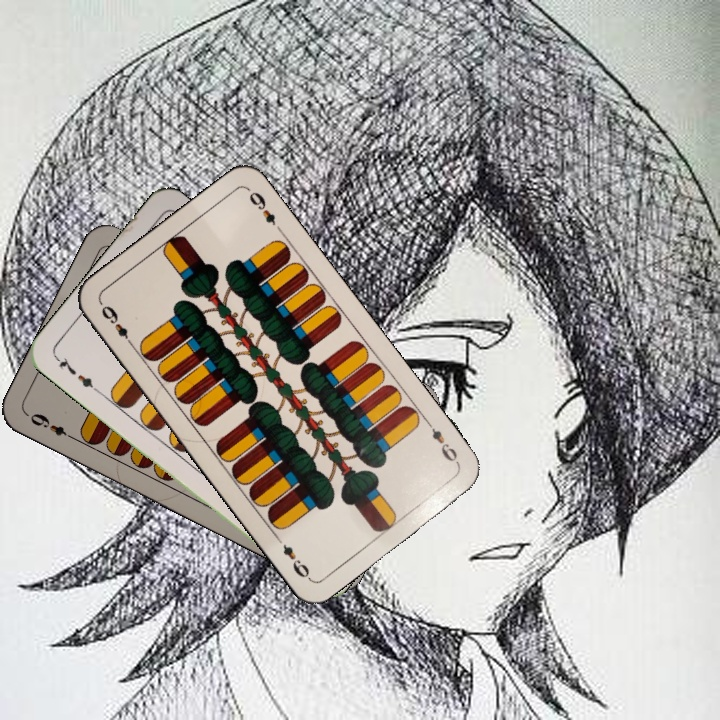E7: (51, 353, 101, 394)
E9: (422, 416, 462, 467), (97, 301, 137, 350), (23, 409, 78, 443)
